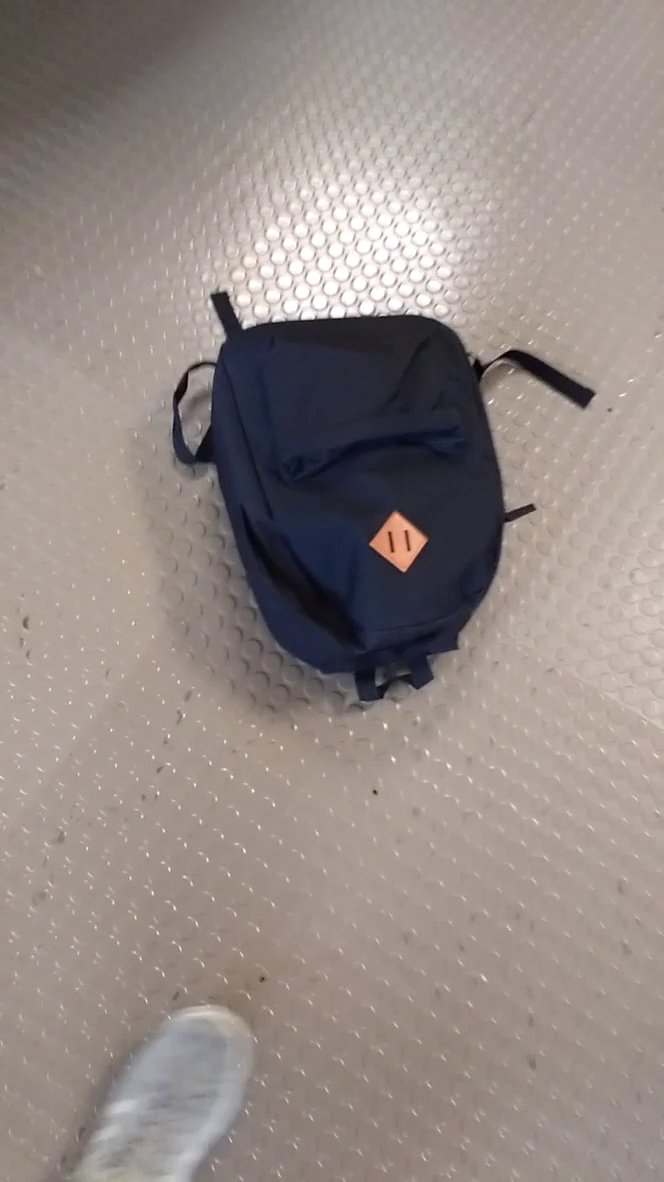bag: (168, 274, 603, 719)
